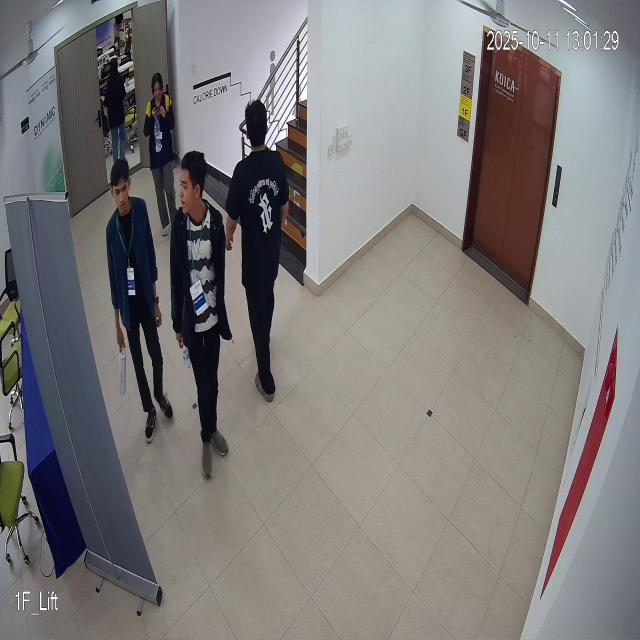face: (177, 141, 207, 225), (104, 154, 137, 221)
